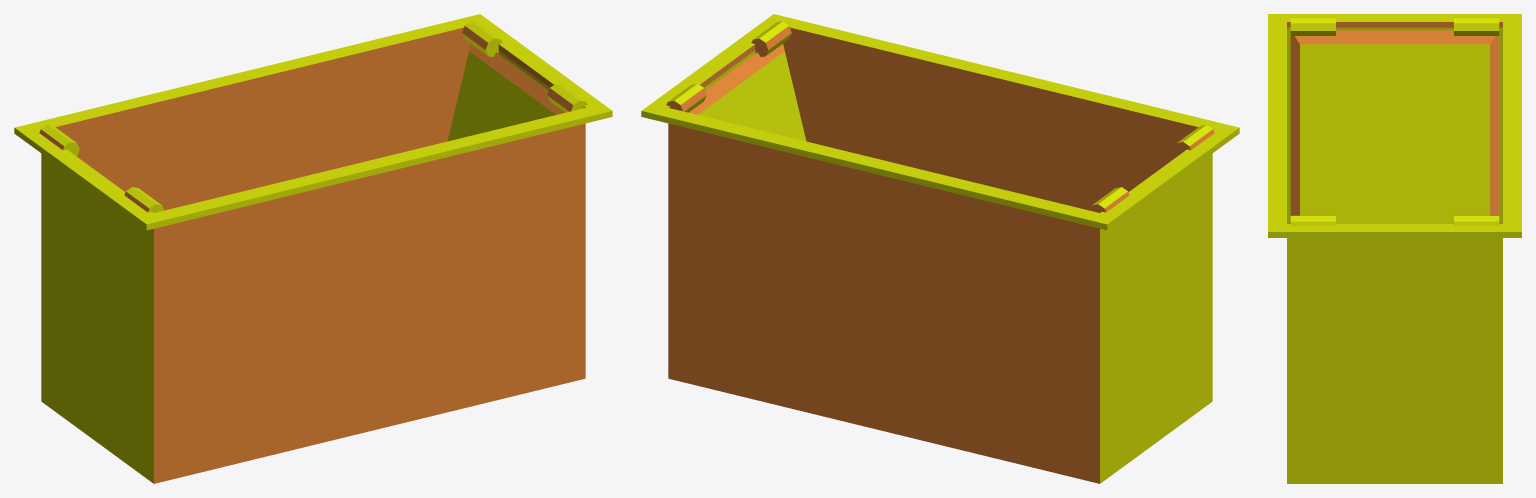
The model's file is Mechanical_Trap_T2_Active.fbx.
The picture shows the model from 3 angles, left to right: view 1: azimuth 30°, elevation 25°; view 2: azimuth 150°, elevation 25°; view 3: azimuth 270°, elevation 25°; orthographic projection. The views are drawn at different scales.
Visible parts, largest first — view 1: Mechanical_Trap_T2_Active; view 2: Mechanical_Trap_T2_Active; view 3: Mechanical_Trap_T2_Active.
Boxes of the visible parts, box(x1,y1,x2,y2) form: Mechanical_Trap_T2_Active: box(14, 14, 612, 483); Mechanical_Trap_T2_Active: box(641, 14, 1239, 483); Mechanical_Trap_T2_Active: box(1268, 14, 1521, 483).
Size of the model in its own units: 1.94 by 0.9524 by 1.1.
